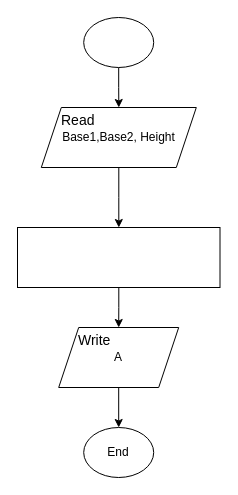
The diagram is 238 pixels wide and 495 high, and some of its shapes have lost their labels. Each missing label, with the centre of its shape:
A = 0.5*(Base1+Base2) * Height: the point at 118,257
Start: the point at 118,42
